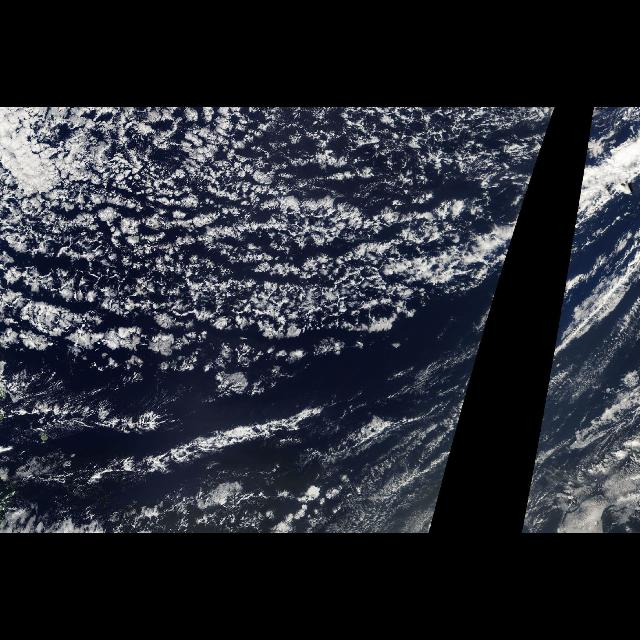Fish: (2, 375, 378, 503)
Gravel: (16, 107, 480, 350)
